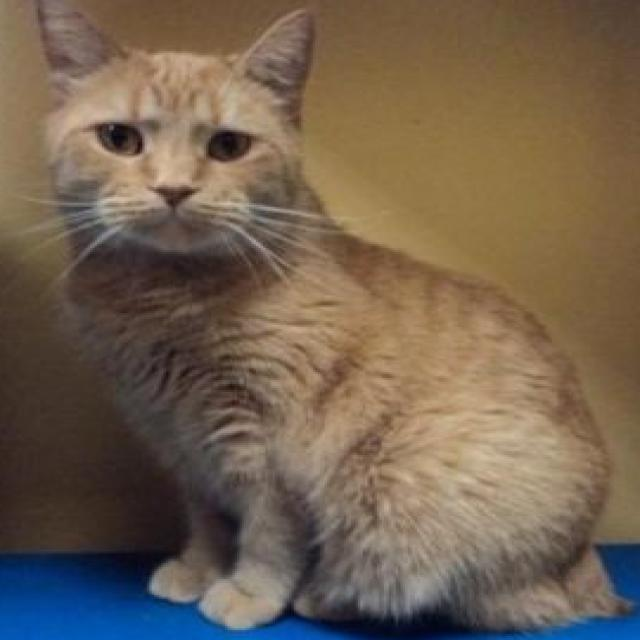American Bobtail: (26, 0, 633, 632)
